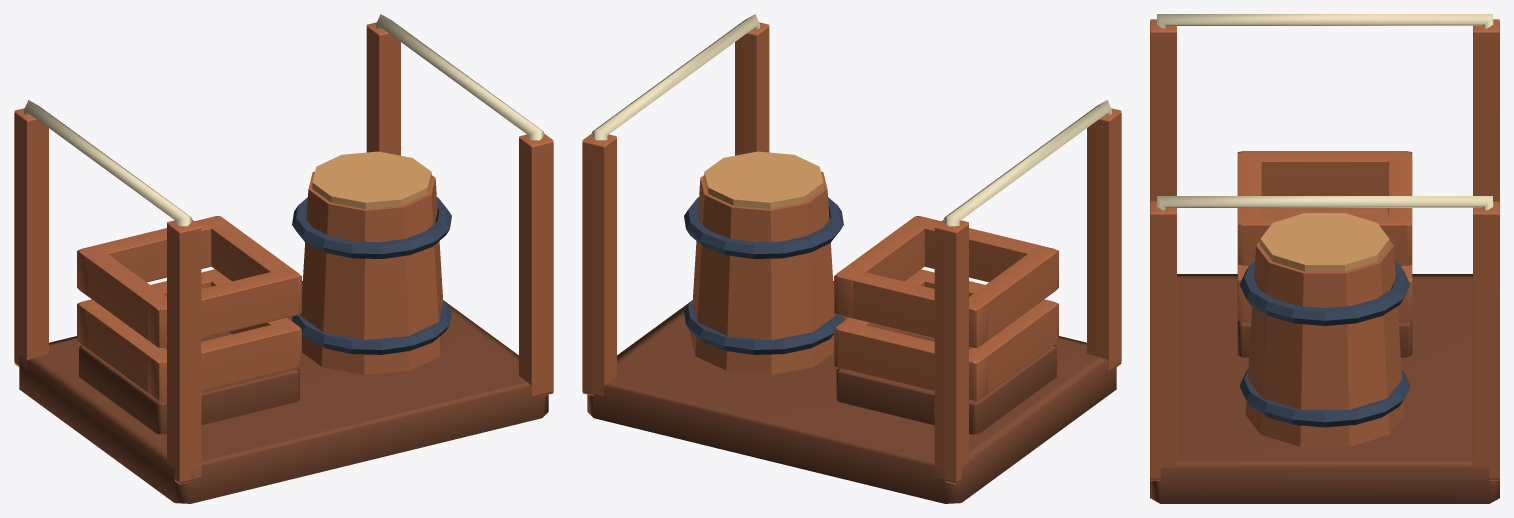
The model's file is cargo-rack.glb.
The picture shows the model from 3 angles, left to right: view 1: azimuth 30°, elevation 25°; view 2: azimuth 150°, elevation 25°; view 3: azimuth 270°, elevation 25°; orthographic projection. The views are drawn at different scales.
Parts seen in each view (by area): view 1: Cargo skid, Barrel staves.001, Rack upright, Rack upright.002, Rack upright.001, Crate base.004, Slatted crate.035, Barrel lid.001, Slatted crate.033, Slatted crate.034, Rack upright.003, Slatted crate.032 (+8 smaller); view 2: Cargo skid, Barrel staves.001, Rack upright.001, Rack upright.003, Rack upright, Crate base.004, Barrel lid.001, Slatted crate.037, Slatted crate.039, Slatted crate.034, Rack upright.002, Slatted crate.032 (+6 smaller); view 3: Cargo skid, Barrel staves.001, Rack upright.003, Rack upright.002, Barrel lid.001, Slatted crate.034, Rack upright, Rack upright.001, Cargo lash, Cargo lash.001, Barrel hoop.003, Barrel hoop.002 (+7 smaller).
Part boxes in pixels (x1,y1,x2,y2): Cargo skid: (19,281,548,503); Barrel staves.001: (300,171,445,374); Rack upright: (167,219,201,484); Rack upright.002: (519,133,553,395); Rack upright.001: (14,108,48,369); Crate base.004: (79,332,299,434); Slatted crate.035: (148,268,301,347); Barrel lid.001: (312,151,431,209); Slatted crate.033: (148,325,301,400); Slatted crate.034: (77,247,166,347); Rack upright.003: (366,22,400,155); Slatted crate.032: (77,303,166,400); Cargo skid: (587,281,1116,503); Barrel staves.001: (690,171,835,374); Rack upright.001: (934,219,968,484); Rack upright.003: (582,133,616,395); Rack upright: (1087,108,1121,370); Crate base.004: (836,332,1056,434); Barrel lid.001: (704,151,823,209); Slatted crate.037: (834,321,987,400); Slatted crate.039: (834,268,987,347); Slatted crate.034: (969,247,1058,347); Rack upright.002: (735,22,769,155); Slatted crate.032: (969,301,1058,400); Cargo skid: (1150,274,1499,503); Barrel staves.001: (1245,240,1404,446); Rack upright.003: (1473,201,1499,480); Rack upright.002: (1150,201,1176,480); Barrel lid.001: (1260,213,1389,271); Slatted crate.034: (1237,151,1412,195); Rack upright: (1150,19,1176,202); Rack upright.001: (1473,19,1499,202); Cargo lash: (1156,14,1493,28); Cargo lash.001: (1156,196,1493,210); Barrel hoop.003: (1239,262,1410,325); Barrel hoop.002: (1239,369,1410,427).
Size of the model in its own units: 1.7 by 1.24 by 1.3.
